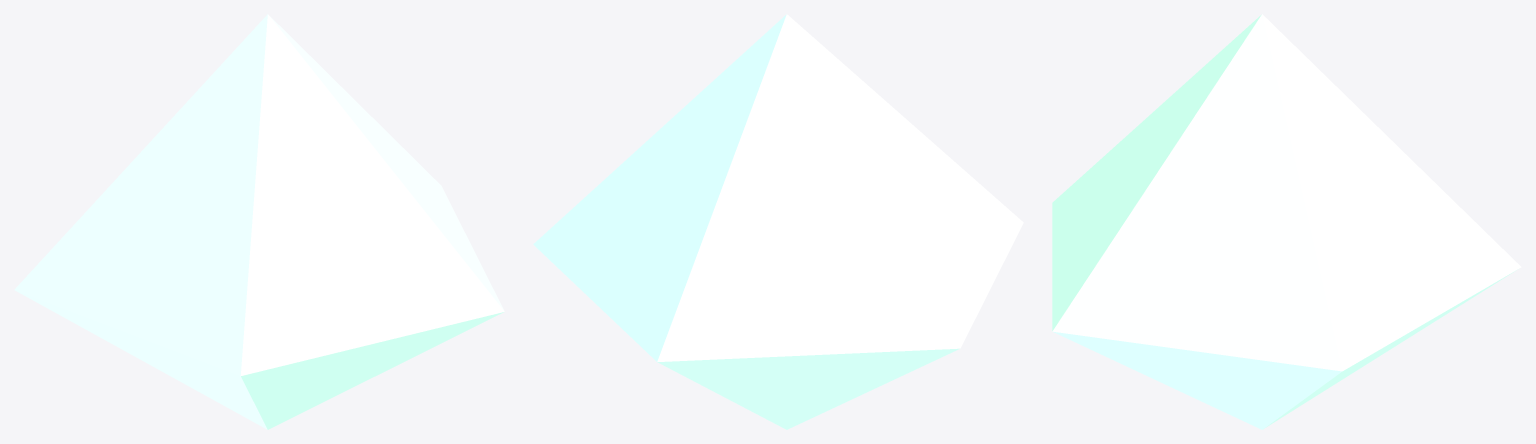
Rendered from LeafGem_Boost.glb.
3 renders of one model, left to right at view 1: azimuth 30°, elevation 25°; view 2: azimuth 150°, elevation 25°; view 3: azimuth 270°, elevation 25°, orthographic.
Parts seen in each view (by area): view 1: LeafGem_Boost; view 2: LeafGem_Boost; view 3: LeafGem_Boost.
Boxes of the visible parts, <box> form: LeafGem_Boost: <box>14,14,504,429</box>; LeafGem_Boost: <box>533,14,1023,429</box>; LeafGem_Boost: <box>1052,14,1521,429</box>.
Bounding box in the file's own units: 0.4945 × 0.46 × 0.4703.
